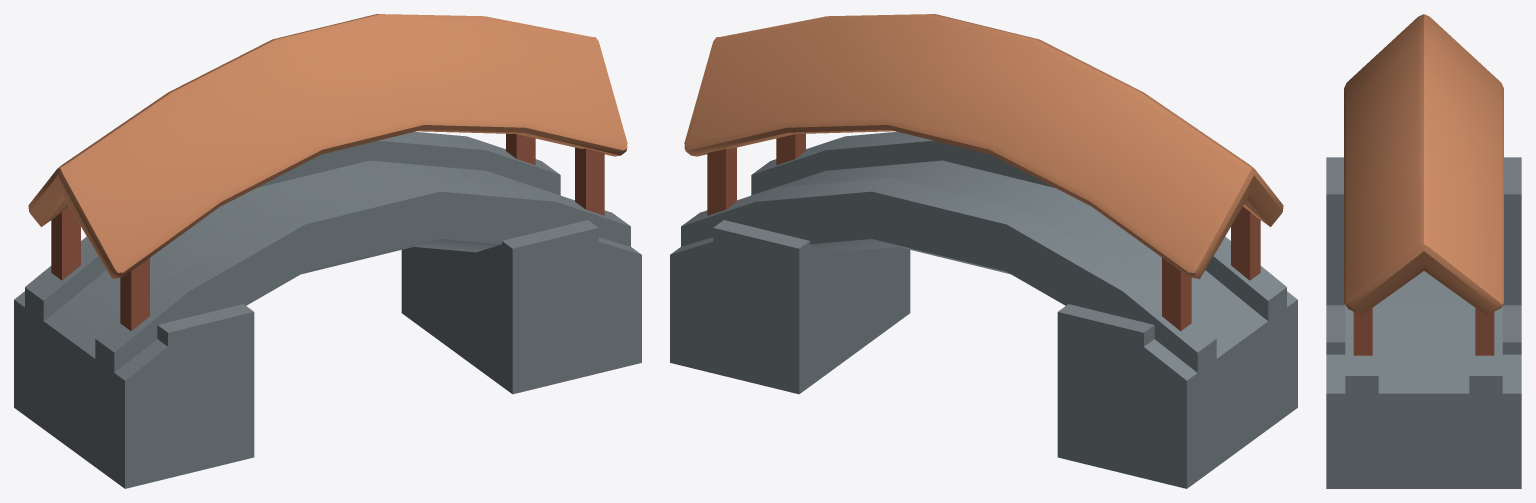
Rendered from bridge_roofed.glb.
3 renders of one model, left to right at view 1: azimuth 30°, elevation 25°; view 2: azimuth 150°, elevation 25°; view 3: azimuth 270°, elevation 25°, orthographic. The views are drawn at different scales.
Visible parts, largest first — view 1: bridge_roofed; view 2: bridge_roofed; view 3: bridge_roofed.
Boxes of the visible parts, x1,y1,x2,y2 form: bridge_roofed: [14, 14, 641, 488]; bridge_roofed: [670, 14, 1297, 488]; bridge_roofed: [1326, 14, 1521, 488].
Size of the model in its own units: 2.09 by 1.33 by 0.7438.
